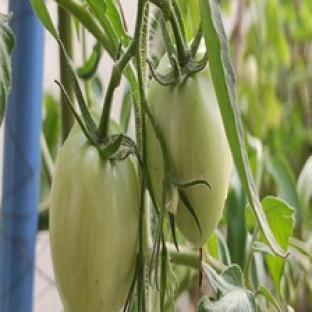Tomato: (51, 127, 139, 311), (148, 67, 232, 246)
